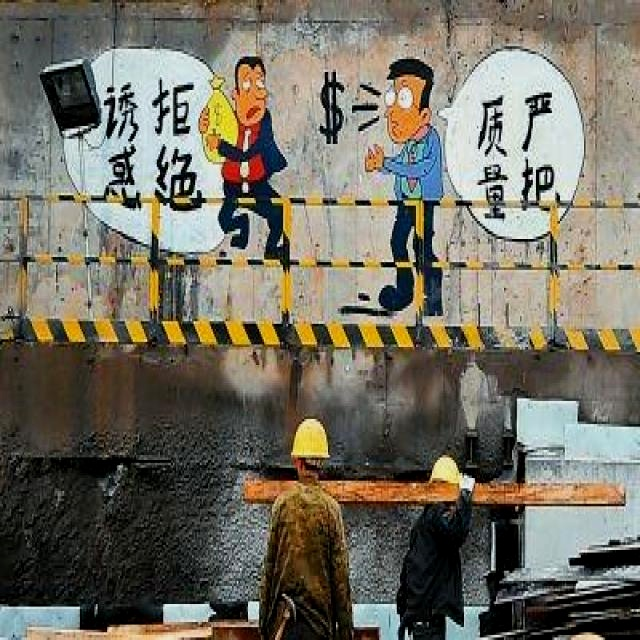Con_Casco: (292, 416, 329, 482)
